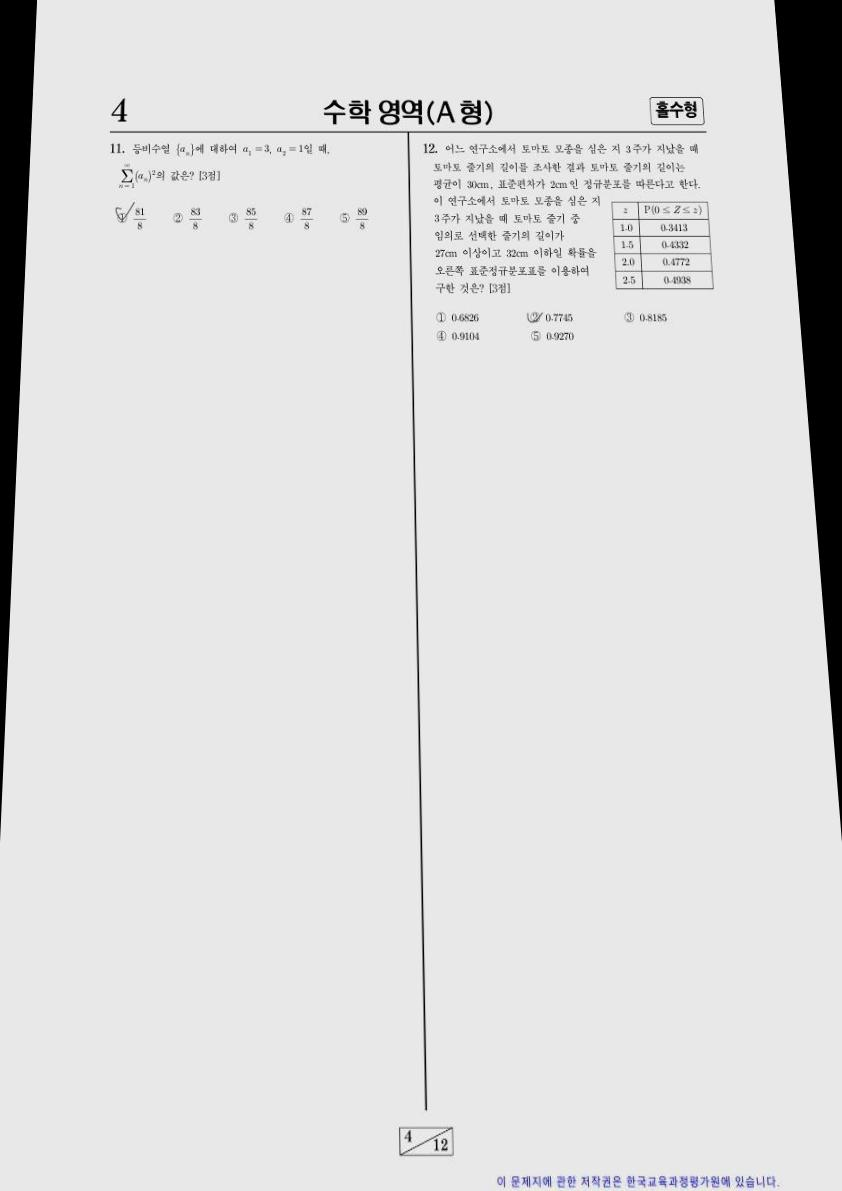question: (412, 133, 724, 358), (92, 132, 387, 248)
